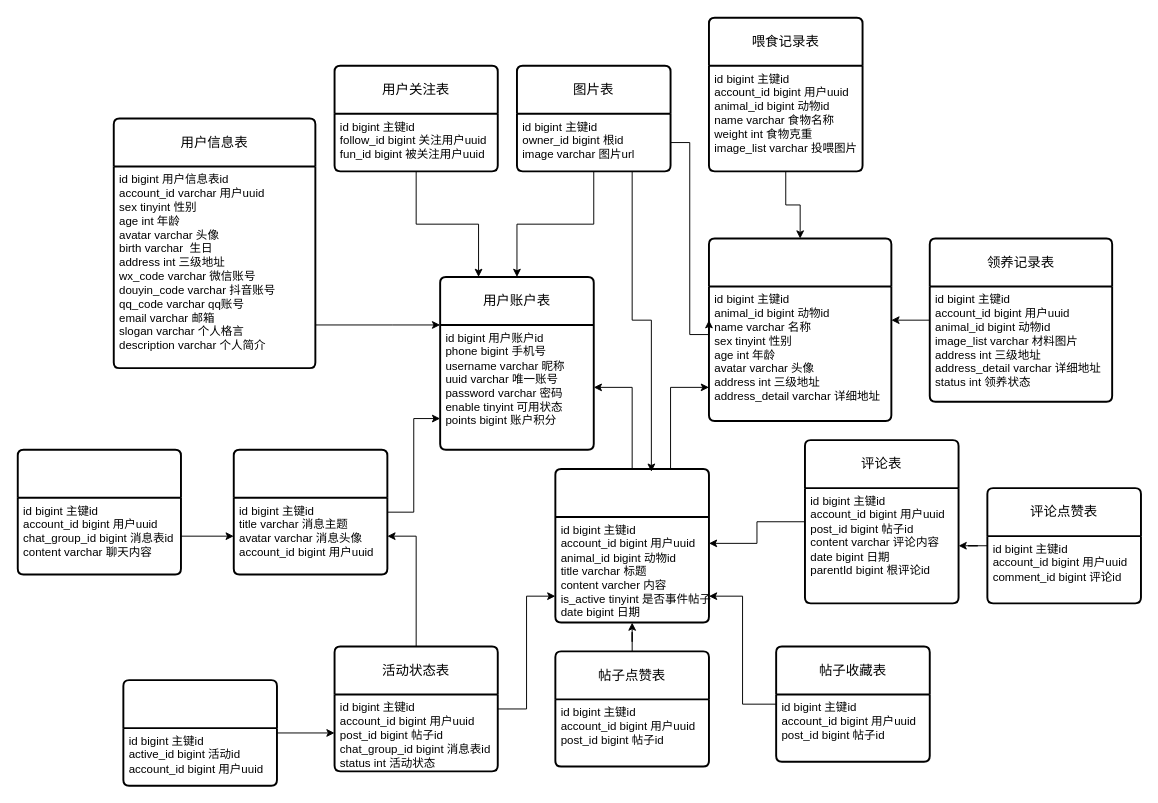
The diagram is 1158 pixels wide and 803 high, and some of its shapes have lost their labels. The box of each missing label's shape, as (x1, y1, x2, y2) in pixels:
动物信息表: (708, 237, 892, 421)
帖子表: (554, 468, 709, 623)
活动参与表: (122, 679, 277, 786)
消息表: (232, 448, 388, 575)
聊天记录表: (16, 448, 181, 575)
